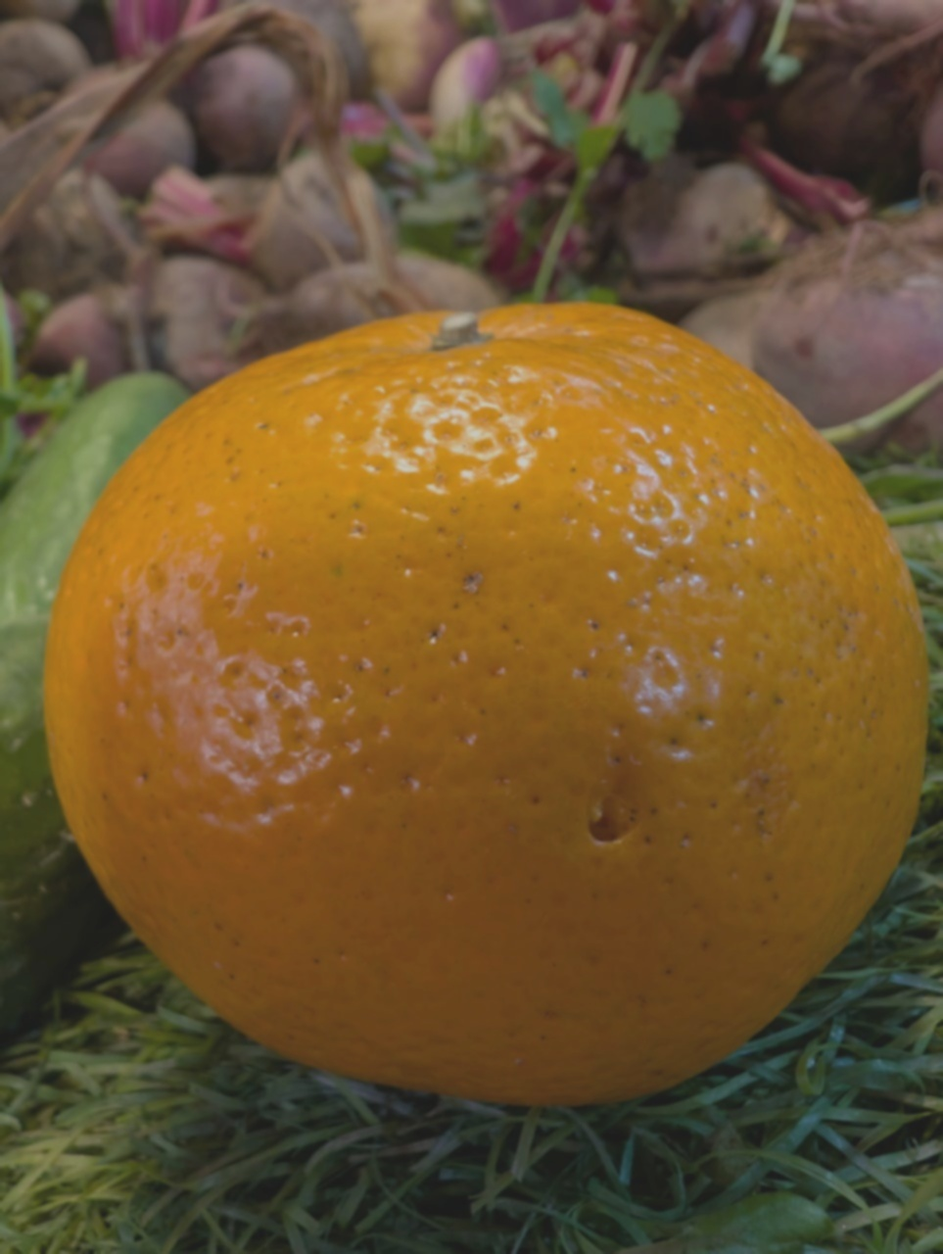orange: (90, 104, 745, 1040)
